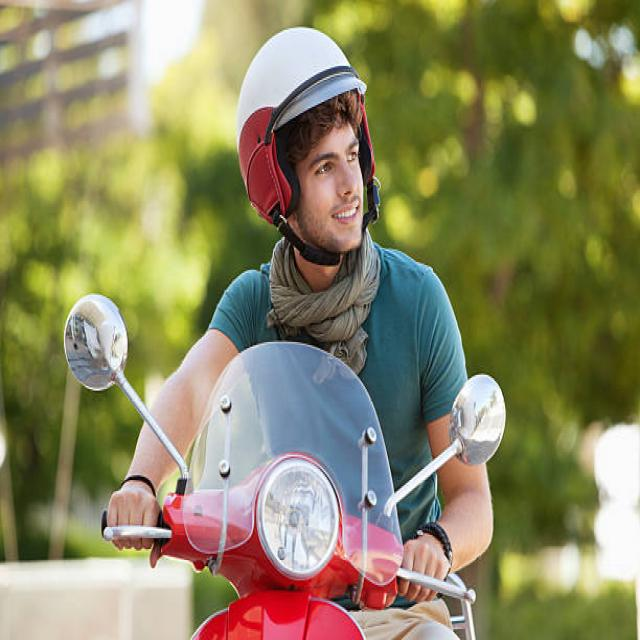not_triplets: (79, 1, 491, 640)
with-helmet: (238, 20, 378, 268)
